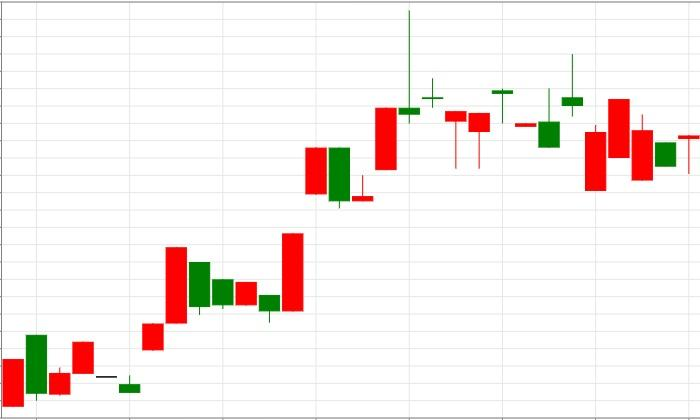bearish_engulfing_fall: (259, 147, 351, 324)
